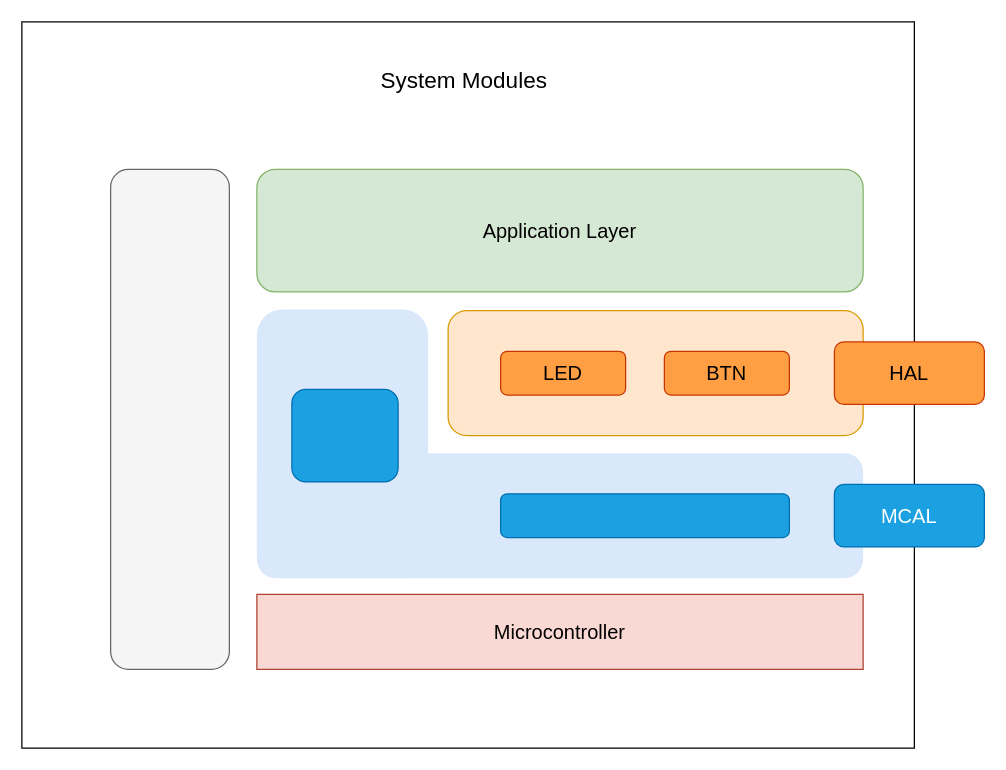
This 1006x770 diagram has some shape labels left out. The box of each missing label's shape, as (x1, y1, x2, y2) in pixels:
DELAY: (291, 388, 398, 482)
DIO: (499, 492, 789, 538)
Library: (109, 168, 229, 669)
